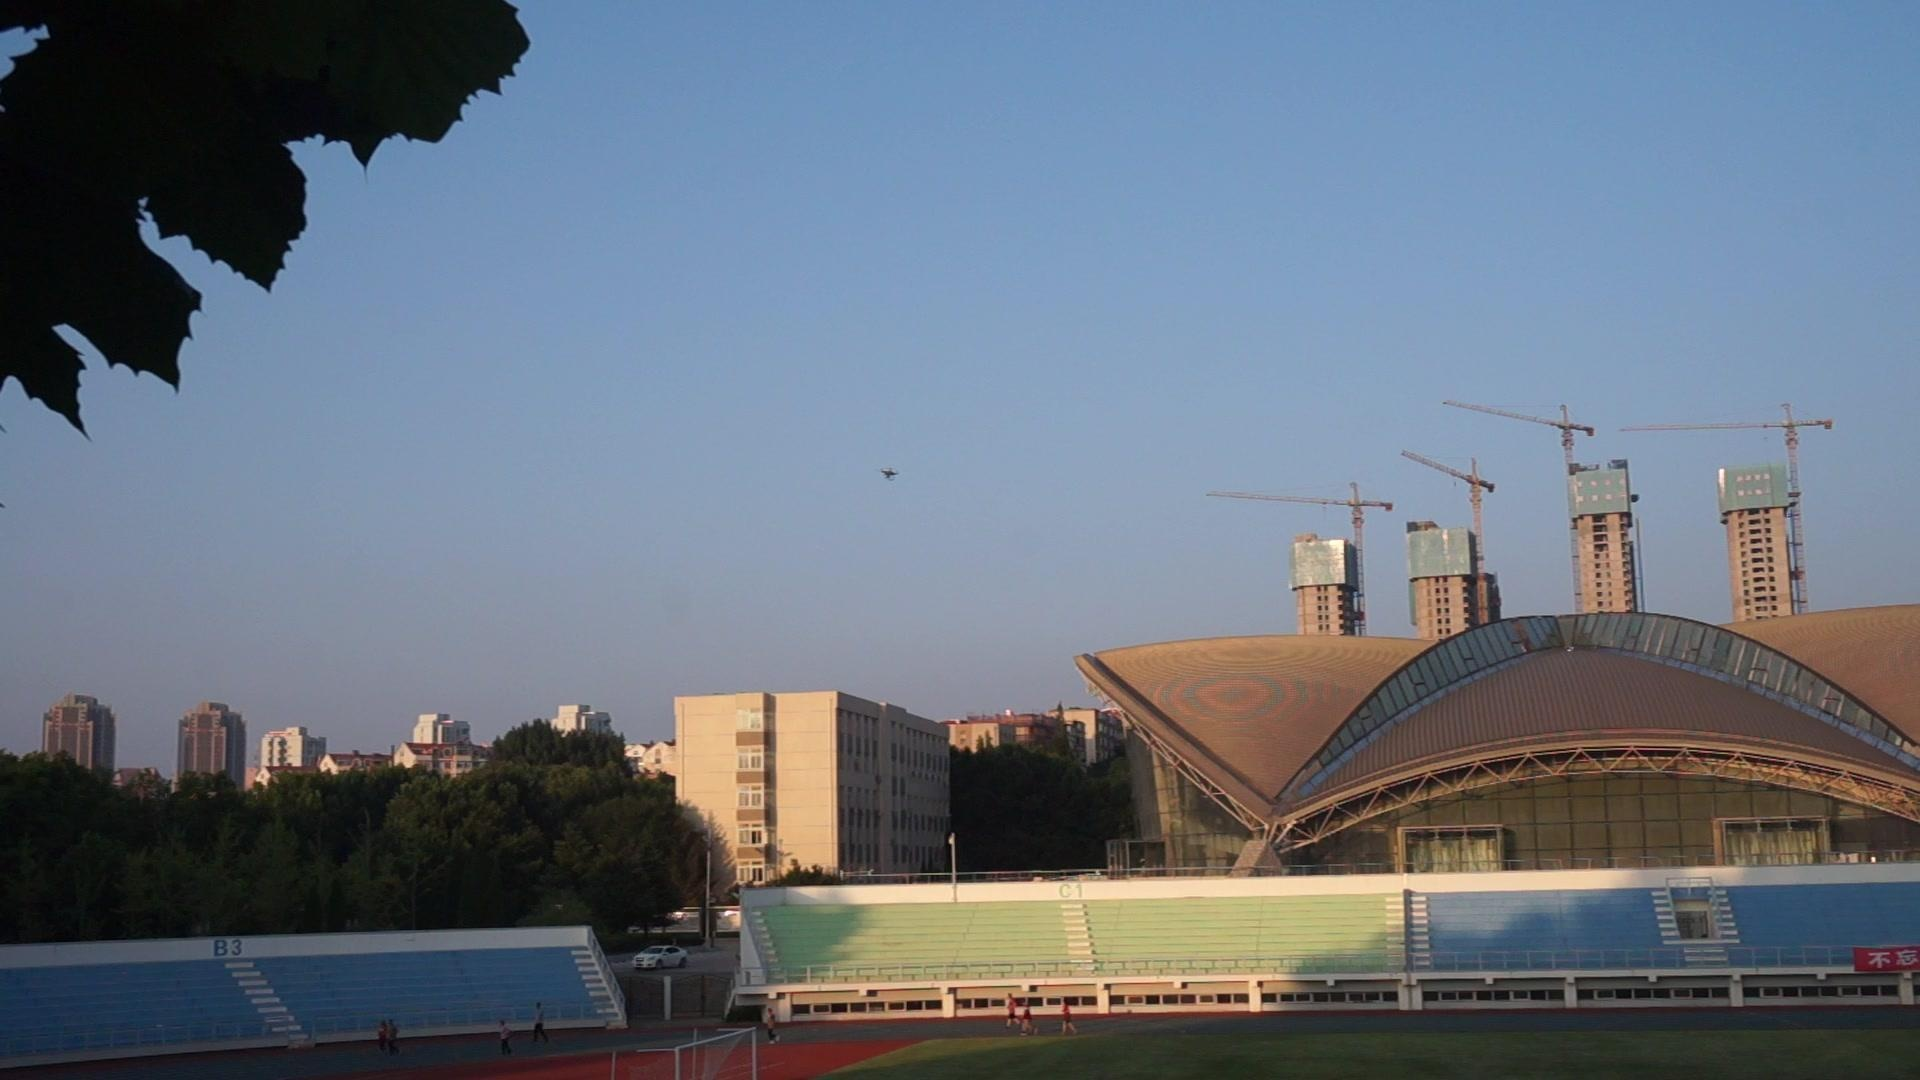UAV: (882, 467, 901, 483)
